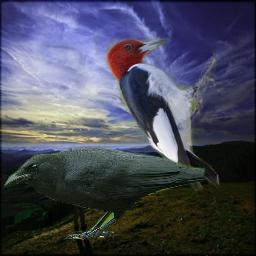Crow: (4, 147, 206, 241)
Woodpecker: (103, 33, 225, 193)
